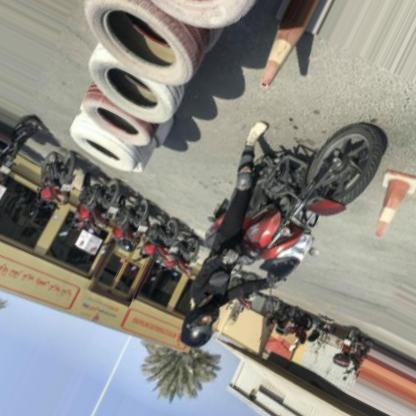with helmet: (181, 303, 221, 346)
